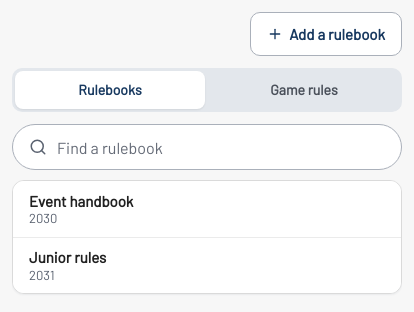
RulebooksPage › narrows the rulebook list from a round search bar
This screenshot has width=414, height=312.
Expected: the button "Event handbook 2030" is shown, [13,181,401,237]
In the search field labelled "Find a rulebook": (221, 147) [57,125,385,169], type "junior"
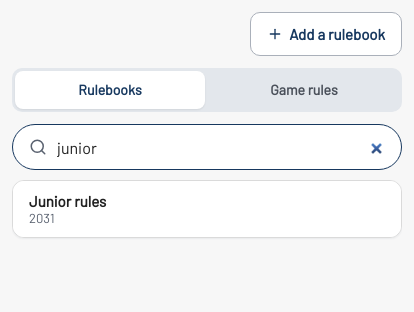
Expected: the button "Junior rules 2031" is shown, [13,181,401,237]
Expected: the button "Event handbook" is gone
Replace the text in the search field named "Find a rulebook" with "zzz": (221, 147) [57,125,385,169]
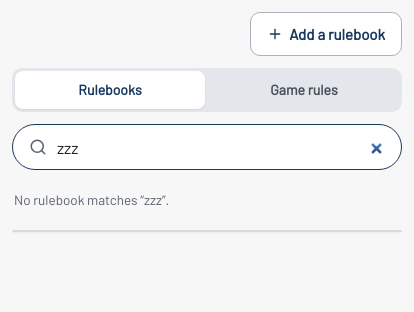
Expected: the text "No rulebook matches “zzz”." is shown, [14,191,169,208]
